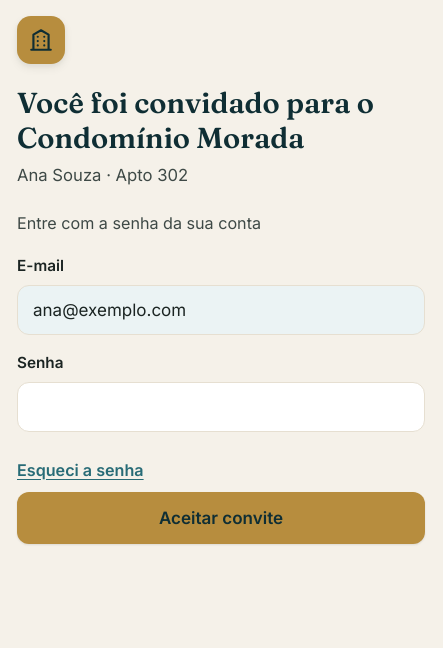
Test: AcceptInviteScreen › an invitation that expires while filling the form shows the 404 copy
This screenshot has width=443, height=648.
Step 1. Type "minha-senha" into the password field labelled "Senha" → (221, 407), box [17,382,425,432]
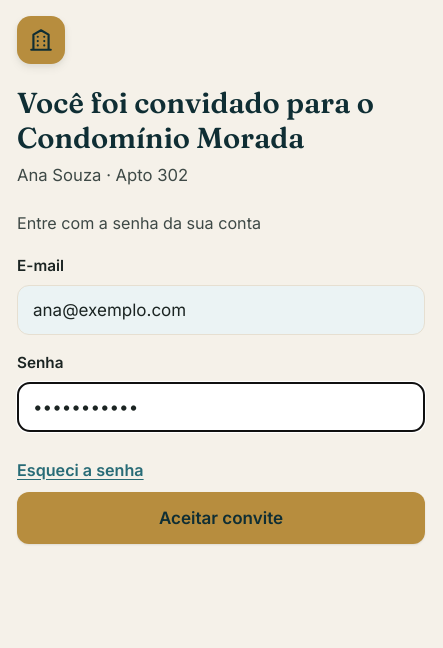
Step 2. Click the button "Aceitar convite" → click(221, 518), box [17,492,425,544]
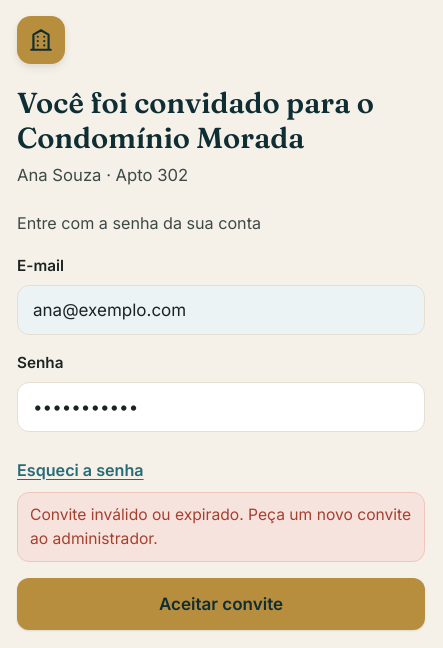
Now the message reads "Convite inválido ou expirado. Peça um novo convite ao administrador.", box [30,505,411,548]
